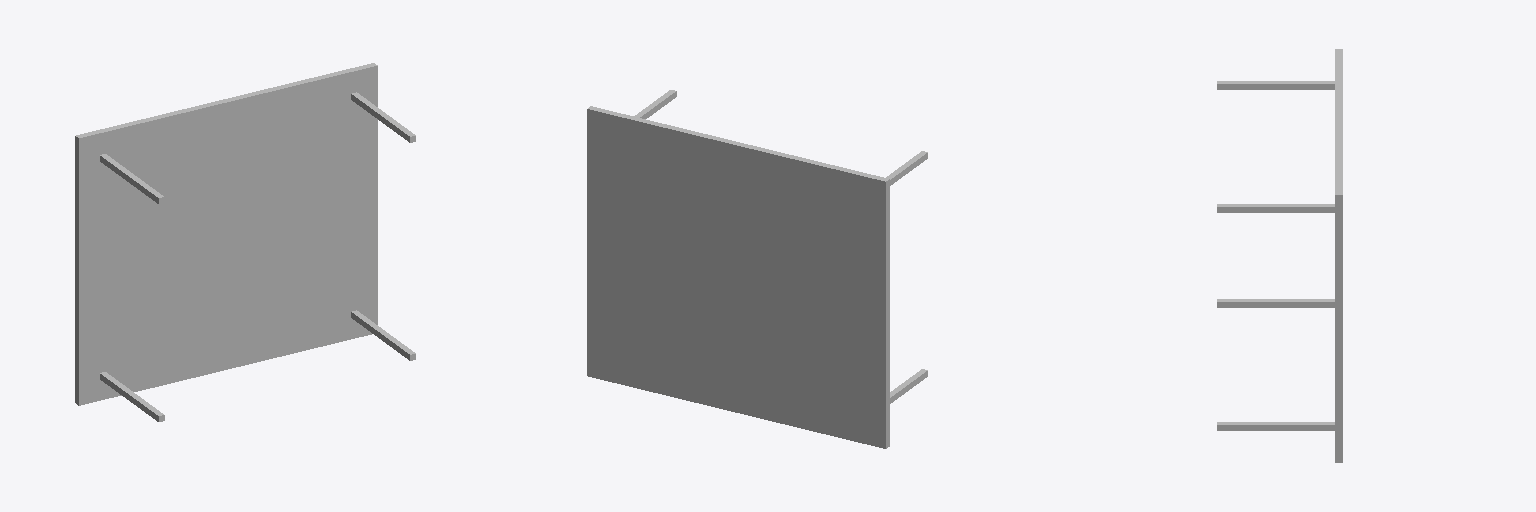
File: random_table10.obj
3 renders of one model, left to right at view 1: azimuth 30°, elevation 25°; view 2: azimuth 150°, elevation 25°; view 3: azimuth 270°, elevation 25°, orthographic.
Parts seen in each view (by area): view 1: Table_Cube.245, TableLeg0_Cube.246, TableLeg2_Cube.248, TableLeg1_Cube.247, TableLeg3_Cube.249; view 2: Table_Cube.245; view 3: Table_Cube.245, TableLeg0_Cube.246, TableLeg1_Cube.247, TableLeg2_Cube.248, TableLeg3_Cube.249.
Part boxes in pixels (x1,y1,x2,y2): Table_Cube.245: (75,63,377,405); TableLeg0_Cube.246: (351,92,415,142); TableLeg2_Cube.248: (351,310,415,360); TableLeg1_Cube.247: (100,154,164,203); TableLeg3_Cube.249: (100,372,164,421); Table_Cube.245: (587,106,889,448); Table_Cube.245: (1335,49,1342,462); TableLeg0_Cube.246: (1217,204,1334,212); TableLeg1_Cube.247: (1217,81,1334,89); TableLeg2_Cube.248: (1217,422,1334,430); TableLeg3_Cube.249: (1217,299,1334,307).
Bounding box in the file's own units: 8.25 × 7.06 × 3.02.